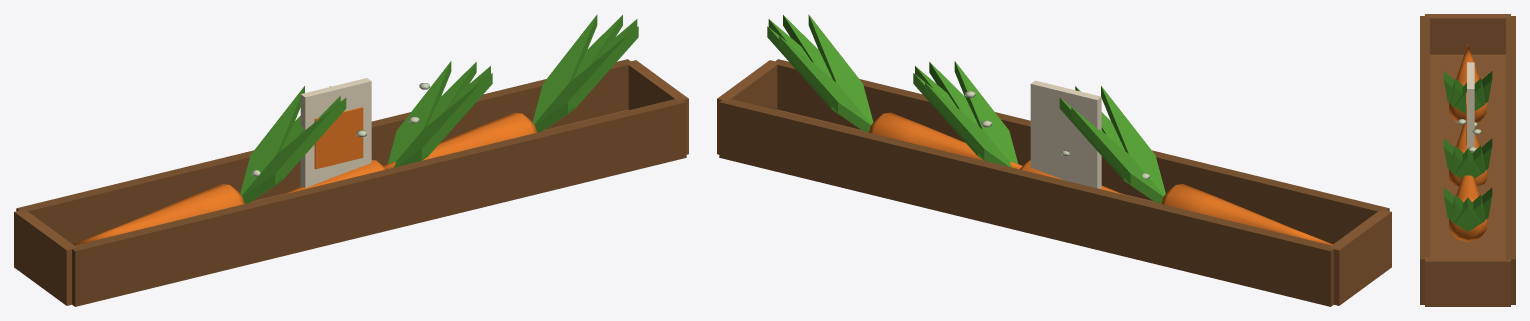
The model's file is Veg_Carrot.fbx.
3 renders of one model, left to right at view 1: azimuth 30°, elevation 25°; view 2: azimuth 150°, elevation 25°; view 3: azimuth 270°, elevation 25°, orthographic. The views are drawn at different scales.
Parts seen in each view (by area): view 1: Veg_Carrot__Stack, Veg_Carrot__Seed, Veg_Carrot; view 2: Veg_Carrot__Stack, Veg_Carrot__Seed, Veg_Carrot; view 3: Veg_Carrot__Stack, Veg_Carrot, Veg_Carrot__Seed, Veg_Carrot__Rotten.
Part boxes in pixels (x1,y1,x2,y2): Veg_Carrot__Stack: [14, 14, 688, 306]; Veg_Carrot__Seed: [300, 78, 371, 187]; Veg_Carrot: [282, 61, 492, 194]; Veg_Carrot__Stack: [717, 14, 1391, 306]; Veg_Carrot__Seed: [1030, 80, 1101, 188]; Veg_Carrot: [913, 61, 1123, 194]; Veg_Carrot__Stack: [1420, 14, 1515, 306]; Veg_Carrot: [1443, 118, 1492, 186]; Veg_Carrot__Seed: [1466, 62, 1474, 152]; Veg_Carrot__Rotten: [1457, 119, 1481, 152].
Size of the model in its own units: 0.468 by 0.09 by 0.0767.
